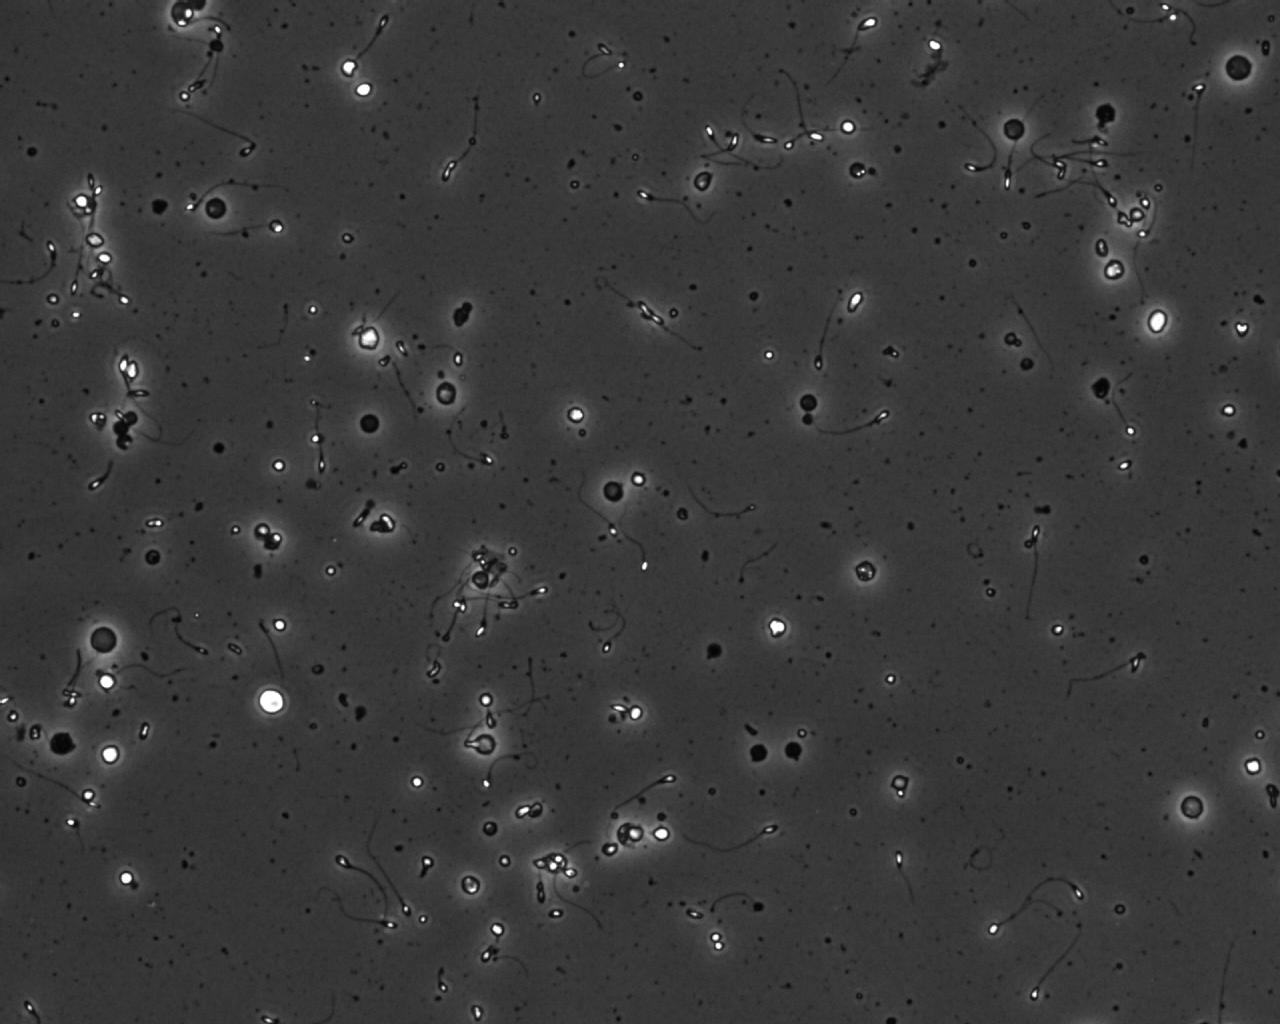cell: (83, 620, 125, 659), (1219, 49, 1259, 87), (253, 684, 289, 718), (45, 727, 78, 760), (612, 818, 647, 849), (1175, 791, 1208, 823), (165, 0, 197, 31), (200, 192, 231, 224), (999, 113, 1029, 145), (1099, 255, 1130, 285), (470, 729, 500, 760), (354, 322, 383, 354), (432, 377, 461, 409), (448, 298, 476, 331), (851, 557, 881, 587), (599, 476, 628, 507), (1087, 372, 1115, 404), (355, 409, 385, 438), (1144, 306, 1172, 337), (1091, 99, 1120, 127), (689, 167, 717, 196), (779, 736, 807, 765), (456, 871, 485, 899), (762, 613, 790, 641), (794, 389, 822, 416), (467, 566, 494, 594), (744, 739, 772, 766), (96, 741, 124, 768), (260, 528, 286, 555), (844, 157, 870, 183), (563, 402, 589, 427), (140, 545, 166, 570), (1240, 754, 1266, 779), (648, 822, 675, 846), (597, 837, 624, 861), (1090, 234, 1113, 262), (95, 669, 120, 694), (887, 770, 912, 795), (337, 54, 361, 80), (350, 78, 376, 102), (478, 817, 503, 841), (82, 228, 108, 251), (796, 408, 818, 431)
